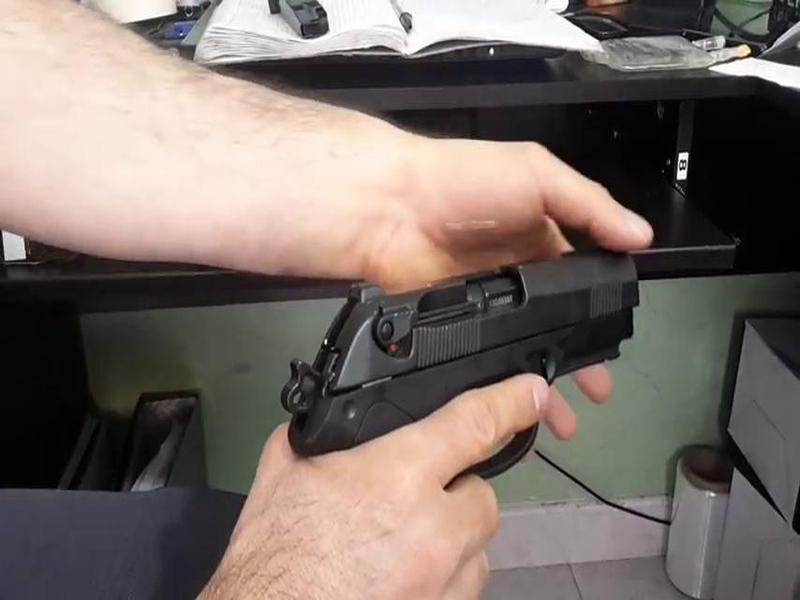Pistola: (277, 236, 660, 478)
